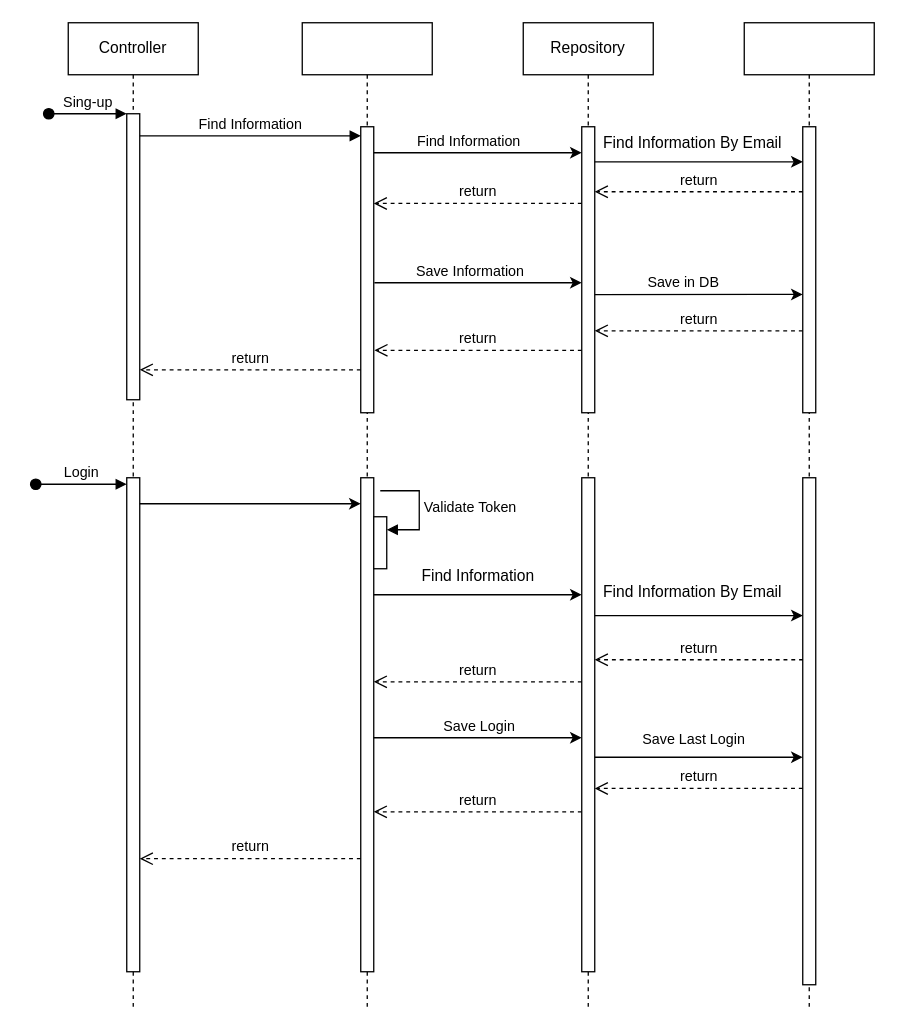
Image size: 897x1034. Some labels were removed from this diagram. Here are the shapes that lost their labels. From the top down, the box of each, then its label:
(301, 21, 432, 1011): Service
(743, 21, 874, 1011): DB
